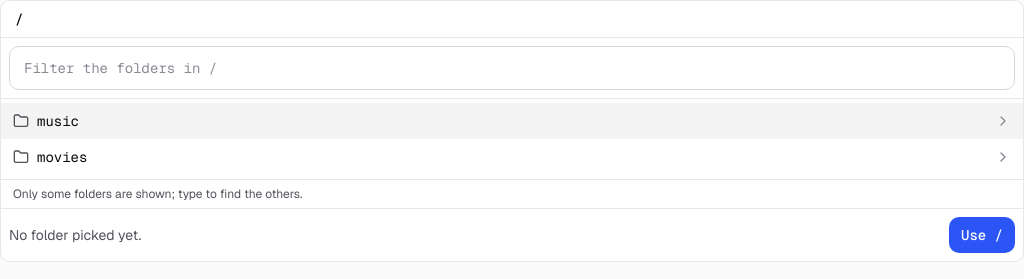
Test: TreeFolderWidget › filters without slashes and says when only some folders are shown
This screenshot has width=1024, height=279.
Check: the text "Only some folders are shown; type to find the others." is shown, box [1,179,1023,208]
In the field: (512, 68) [9,46,1015,90], type "/mu/"
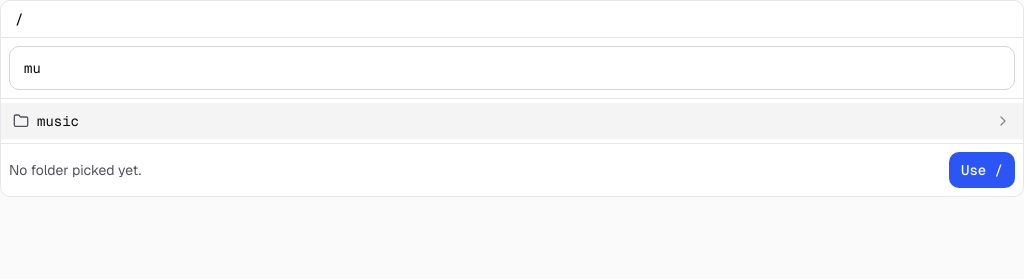
Check: the field holds "mu", box [9,46,1015,90]
Check: the options read "music", in this order, box [1,103,1023,139]
Check: the text "Only some folders are shown" is gone
